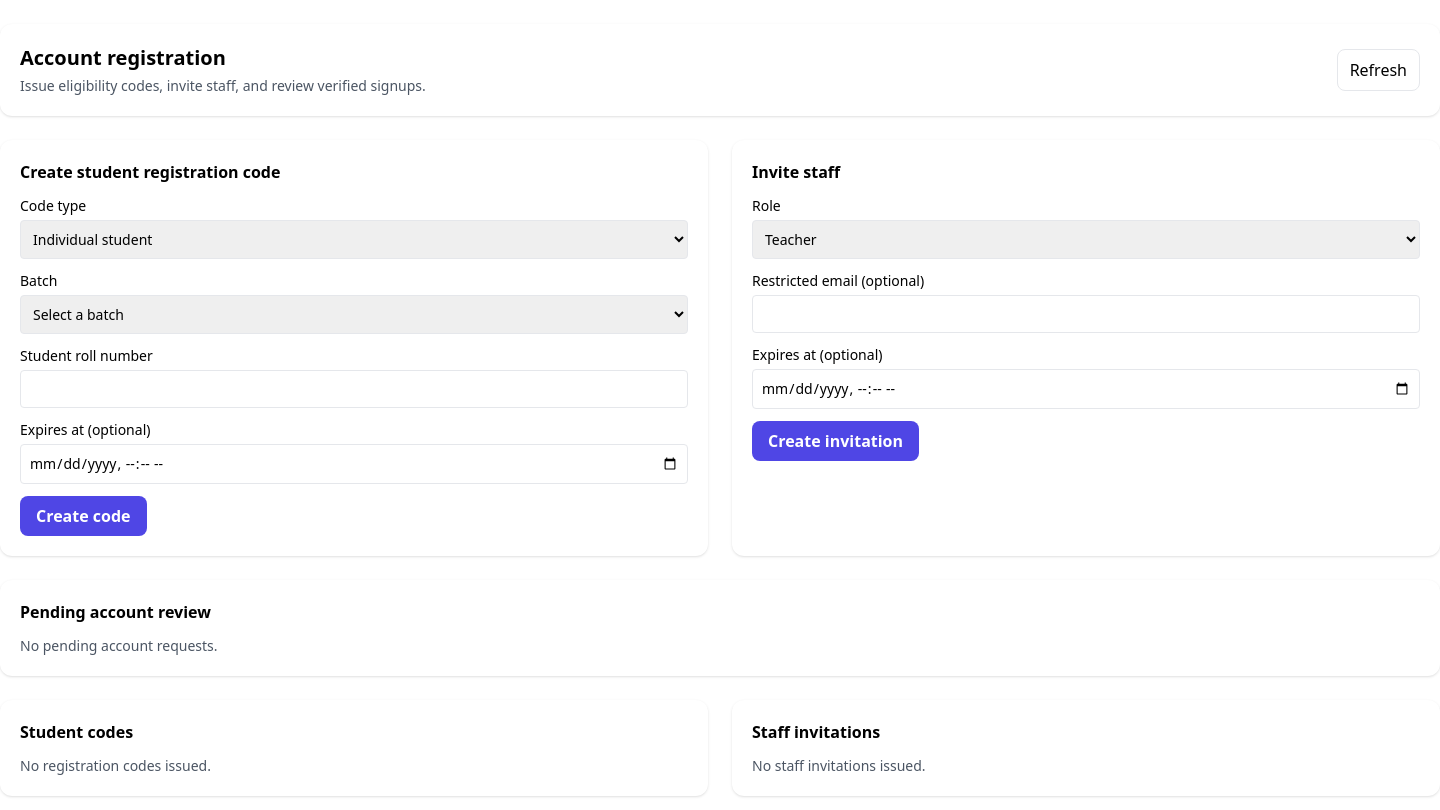
Scenario: AdminRegistrationPanel › creates a student code and displays its one-time value
Select "Batch 2026" in the dropdown labelled "Batch" at (354, 314), box x1=20 y1=295 x2=688 y2=334
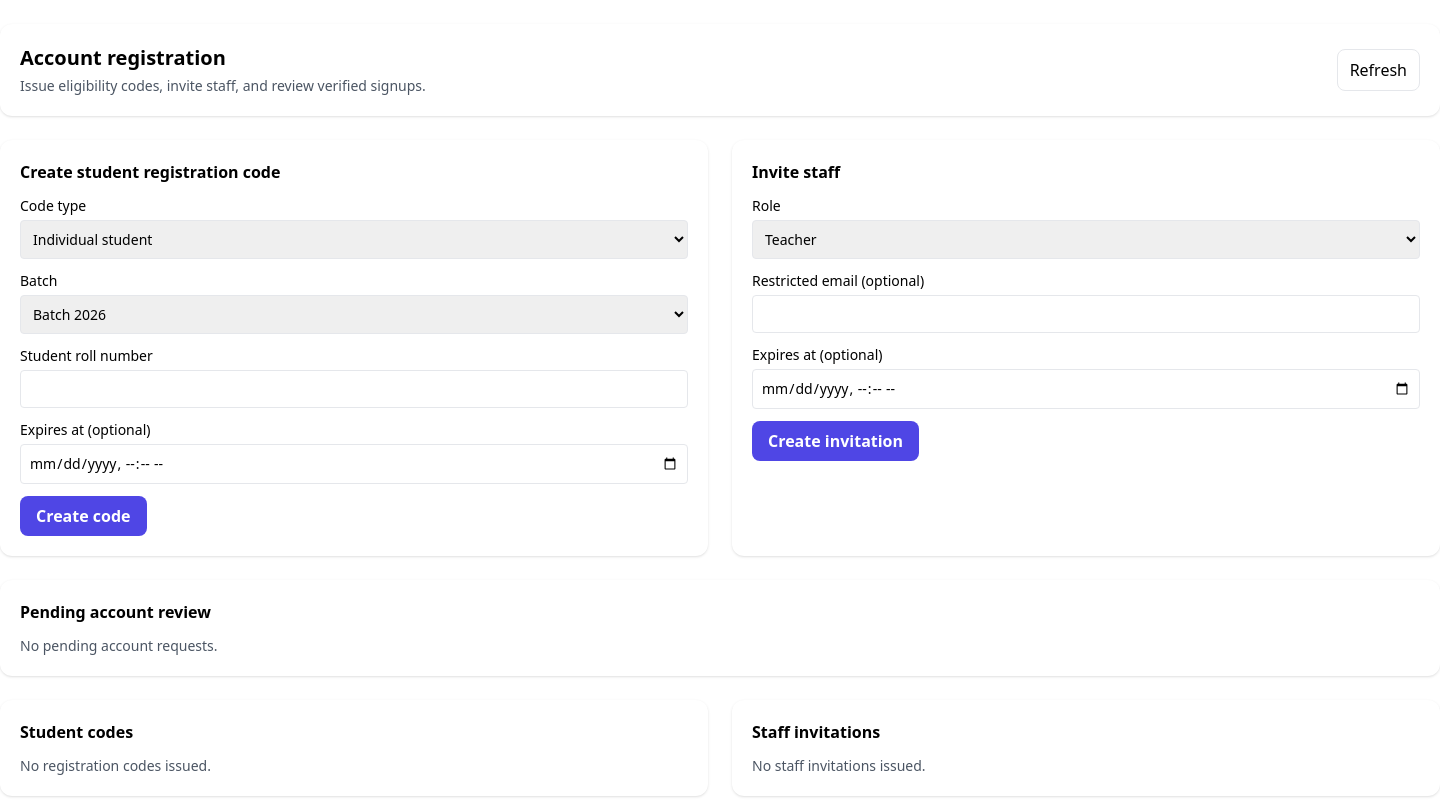
Type "ST-42" into the field labelled "Student roll number" at (354, 389), box x1=20 y1=370 x2=688 y2=408
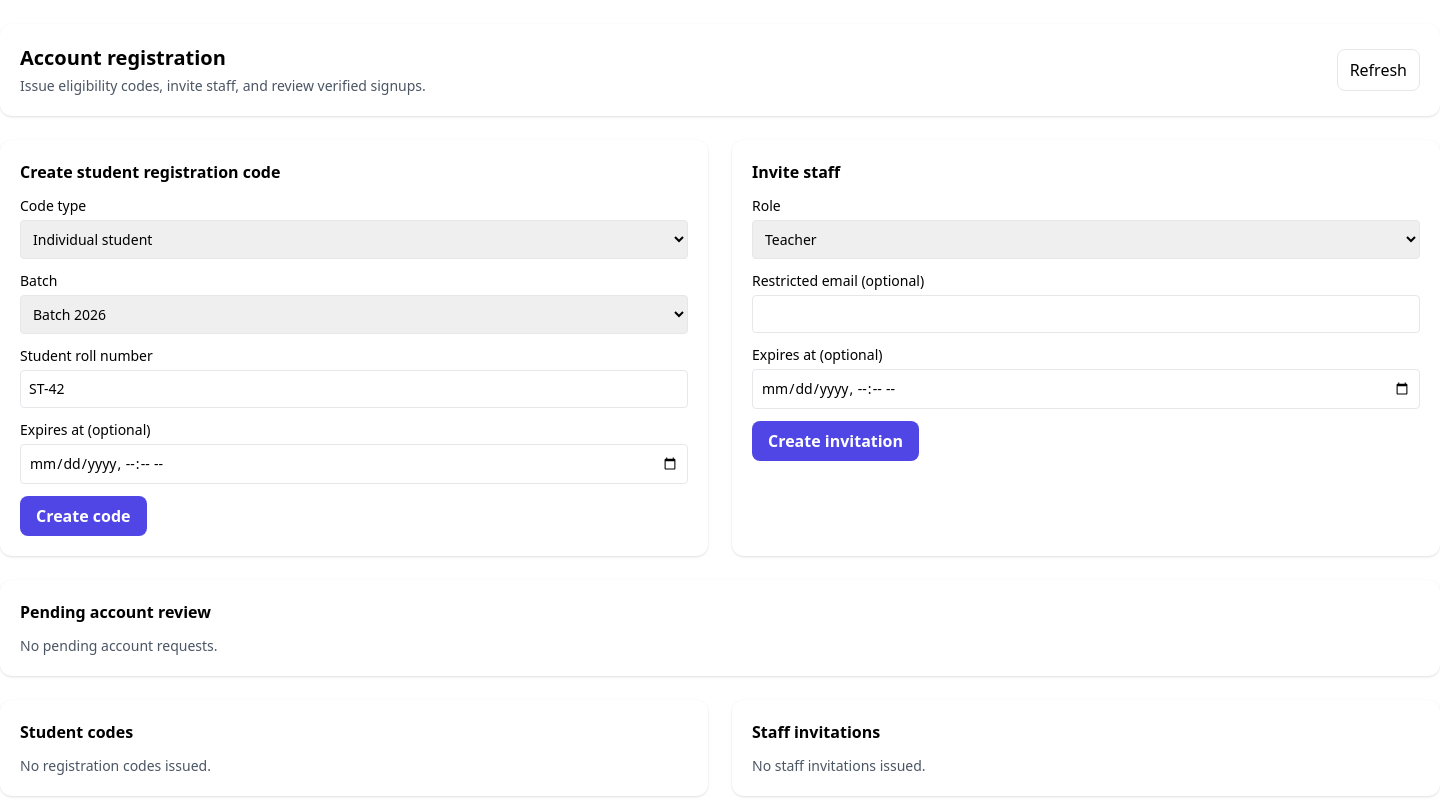
Click the button "Create code" at (83, 516), box x1=20 y1=496 x2=146 y2=536
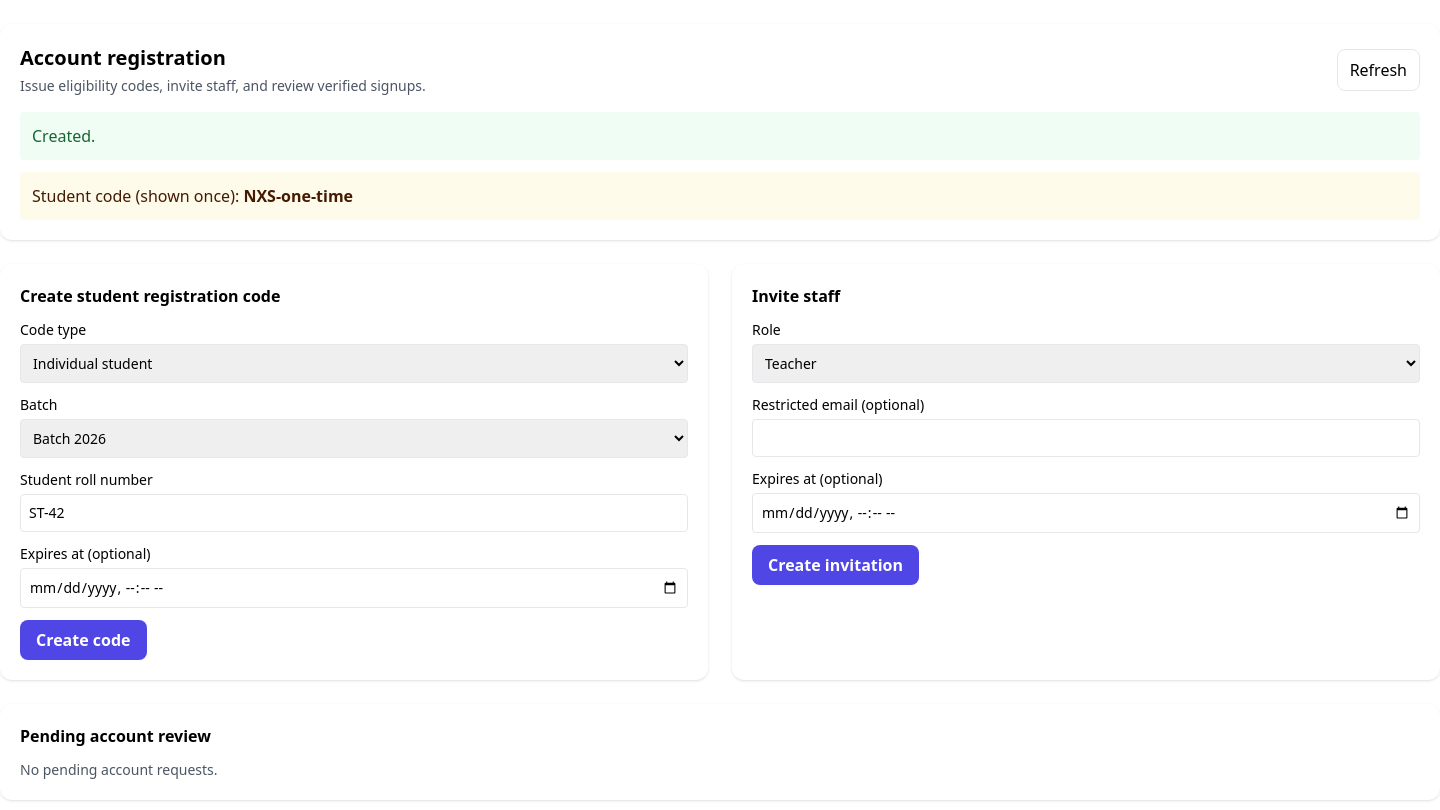
Check: the text "NXS-one-time" is shown, box x1=243 y1=185 x2=353 y2=207
